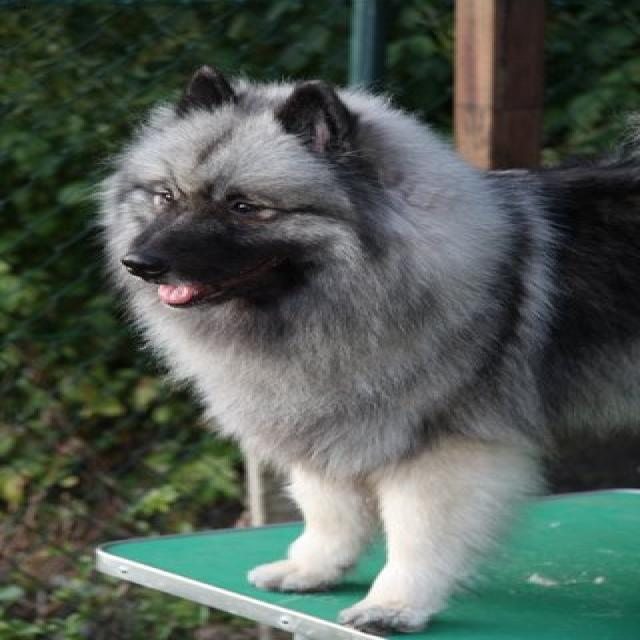dog-keeshond: (78, 55, 636, 637)
